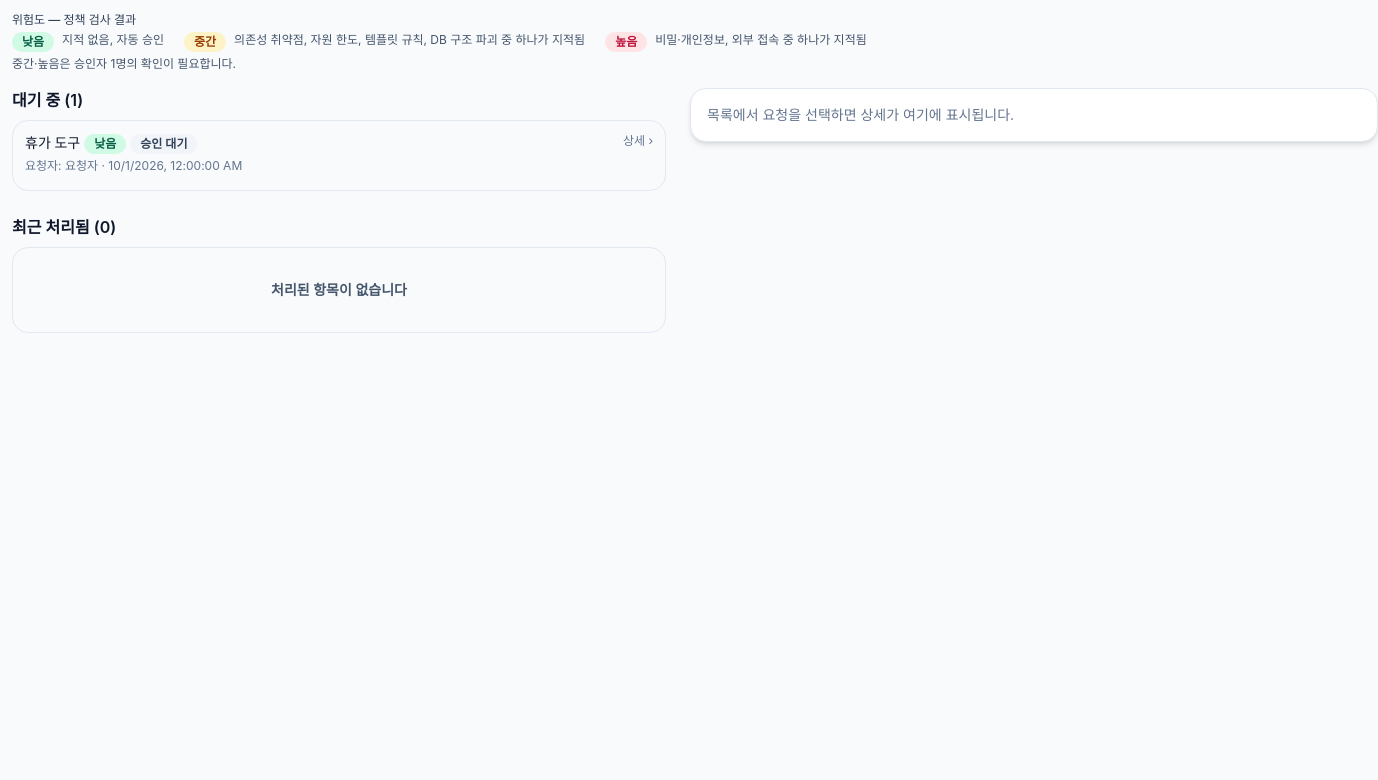
it: the routes each repair attempt was started for, inside the approval console's detail › sit between the repair note's heading and the smoke check, which stays the shipped attempt's
Click the list item with aria-label "휴가 도구 요청 상세 보기" at (339, 156), box [12, 120, 666, 191]
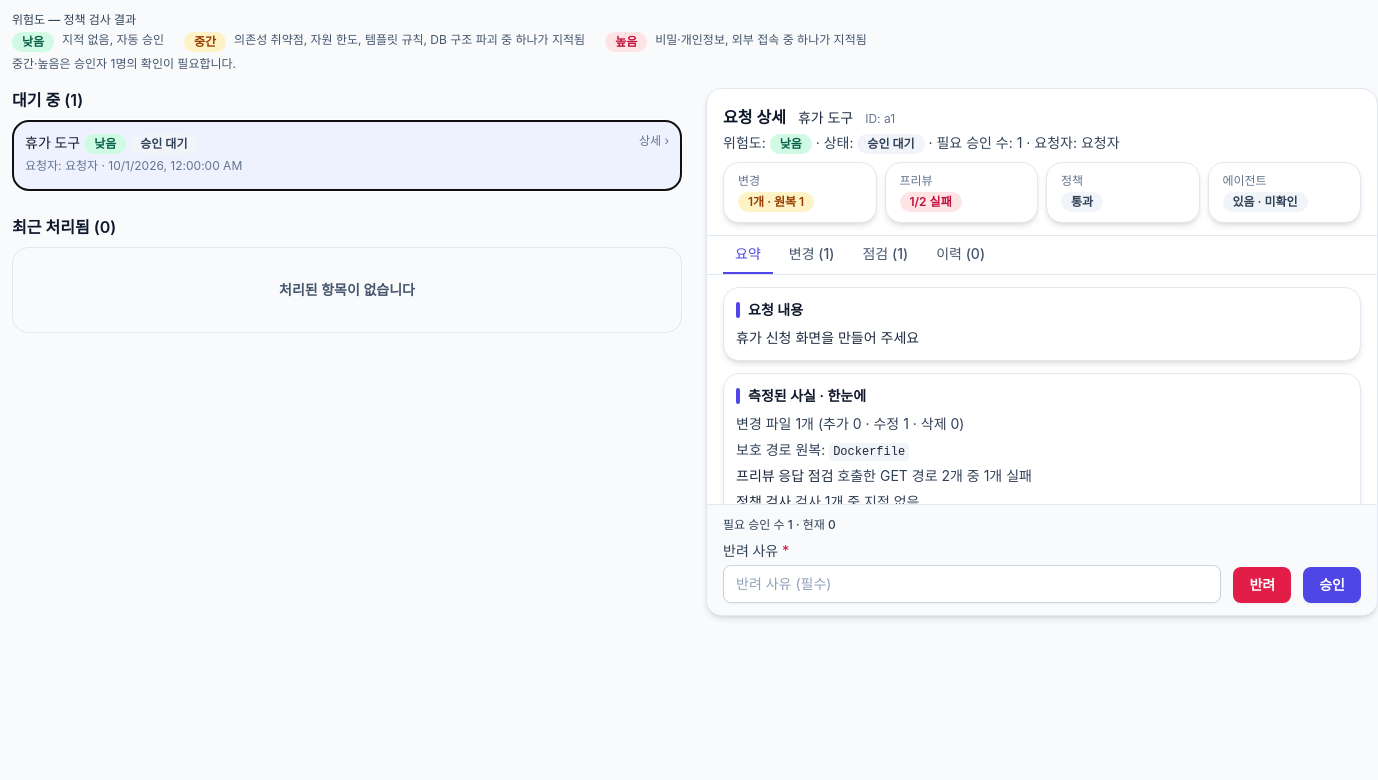
Click the tab "점검 (1)" at (885, 255), box [850, 236, 920, 274]
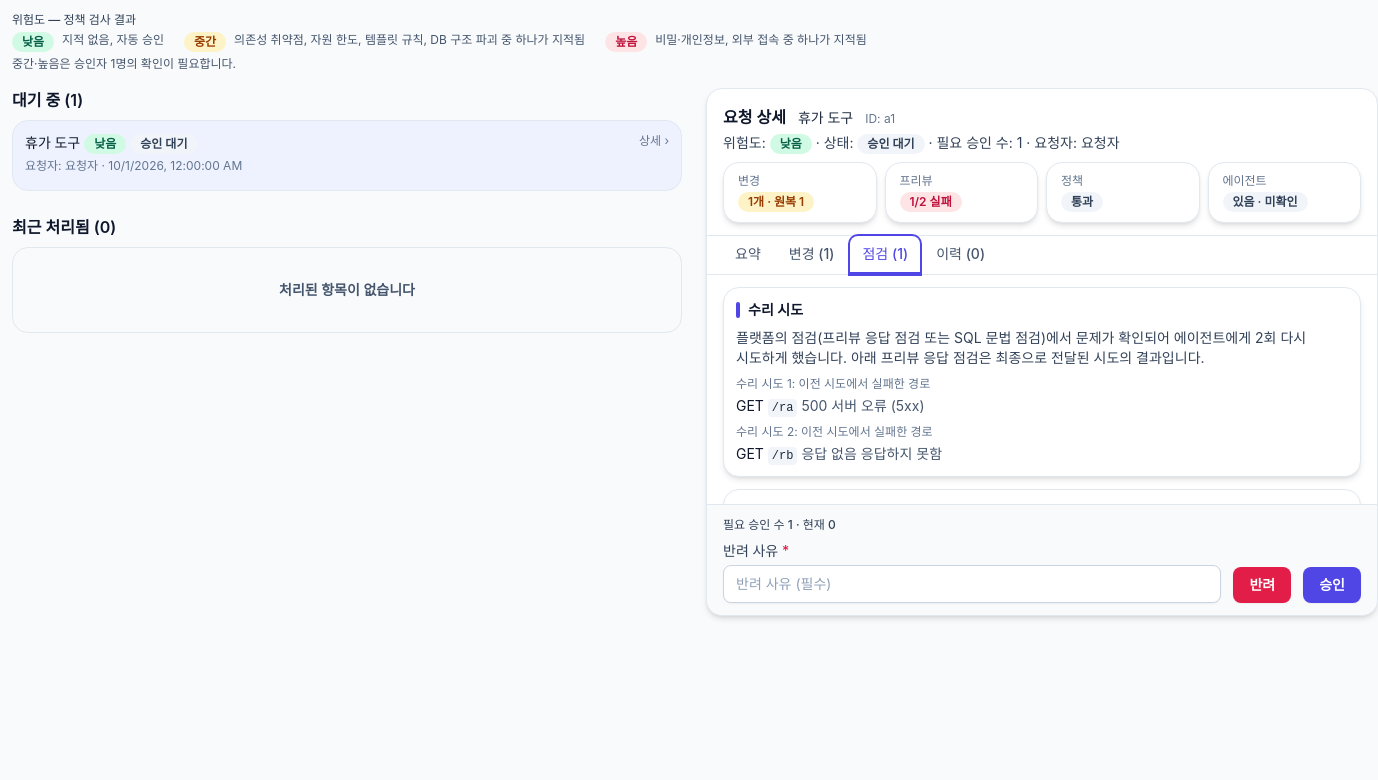
expect the text "/rb" is shown: met, box [768, 447, 797, 465]
